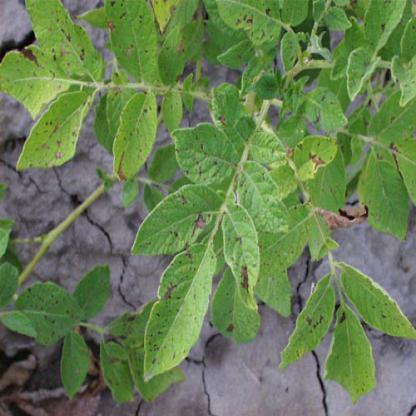Potato leaf late blight: (145, 245, 217, 380), (131, 180, 223, 252), (14, 89, 92, 172), (338, 262, 415, 344), (275, 272, 337, 370), (112, 90, 158, 185), (330, 304, 371, 408), (223, 203, 260, 308), (290, 131, 340, 180)
